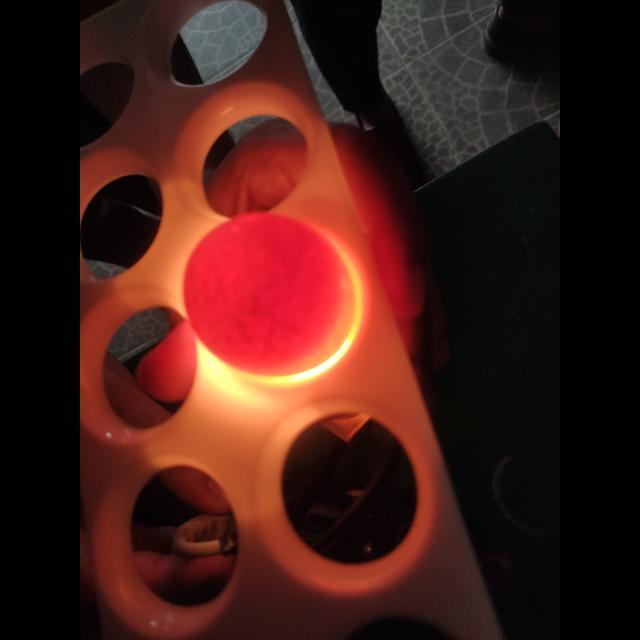A - Good: (188, 207, 358, 369)
